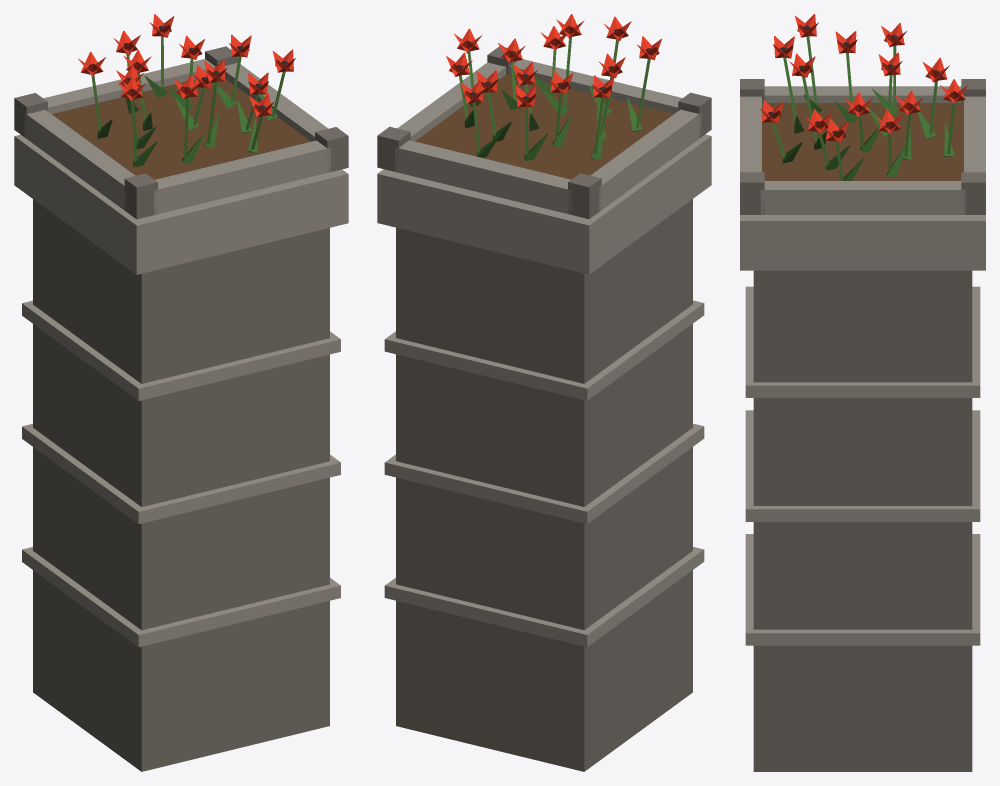
File: decor_poppies.glb
3 views of the same model, side by side, from view 1: azimuth 30°, elevation 25°; view 2: azimuth 150°, elevation 25°; view 3: azimuth 270°, elevation 25° (orthographic).
Visible parts, largest first — view 1: decor_poppies; view 2: decor_poppies; view 3: decor_poppies.
Part boxes in pixels (x1=…): decor_poppies: x1=14, y1=14, x2=348, y2=771; decor_poppies: x1=377, y1=14, x2=711, y2=771; decor_poppies: x1=740, y1=14, x2=985, y2=771.
Size of the model in its own units: 1.8 by 5.41 by 1.8.
